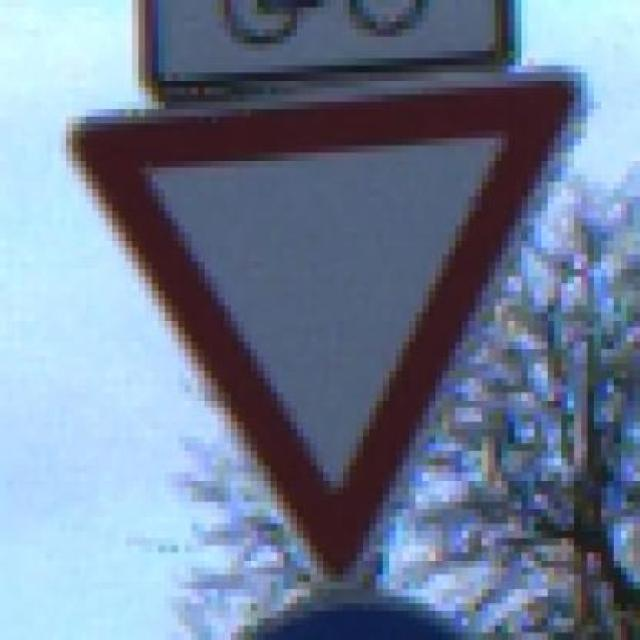Give Way: (26, 58, 608, 596)
